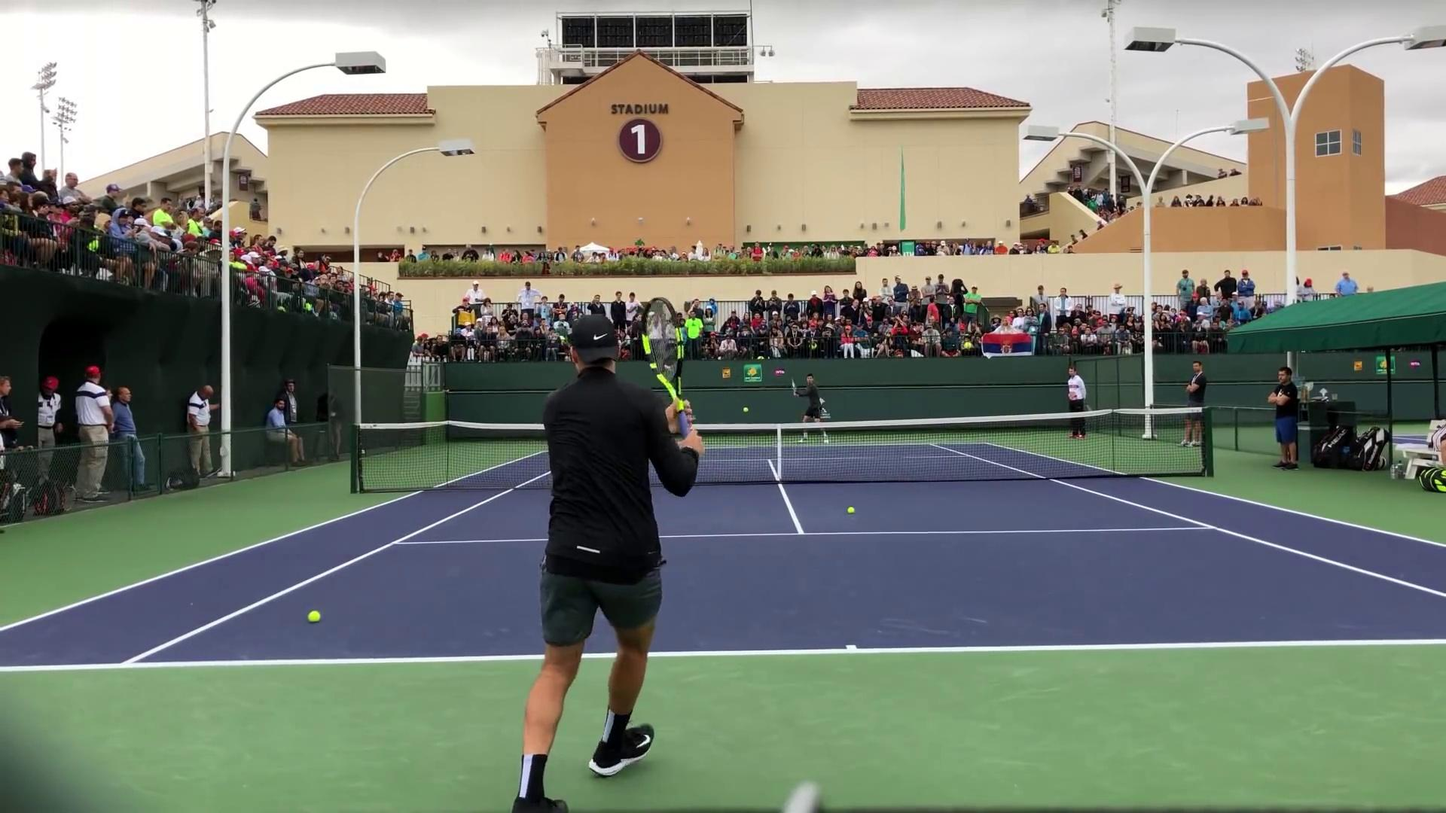ball: (306, 611, 322, 623), (741, 405, 749, 414), (847, 506, 855, 515)
